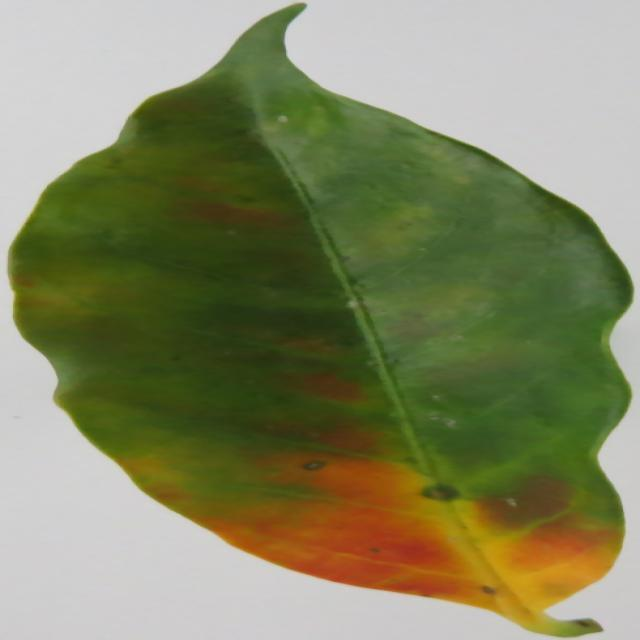DeficienciaNutricional-Fosforo: (13, 5, 628, 612)
